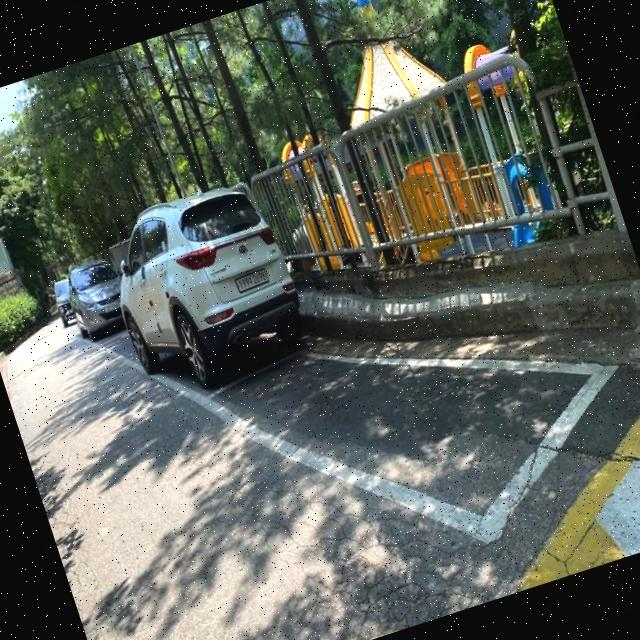empty: (234, 274, 580, 580)
occupied: (98, 170, 311, 387)
